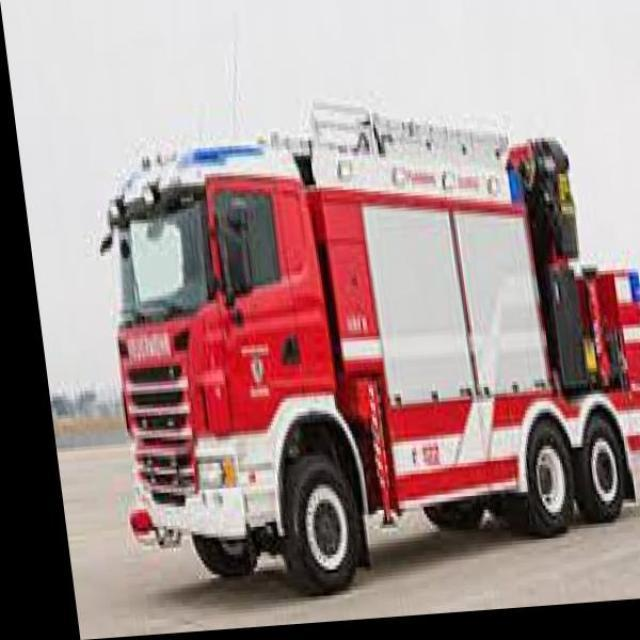emergency: (98, 97, 638, 596)
